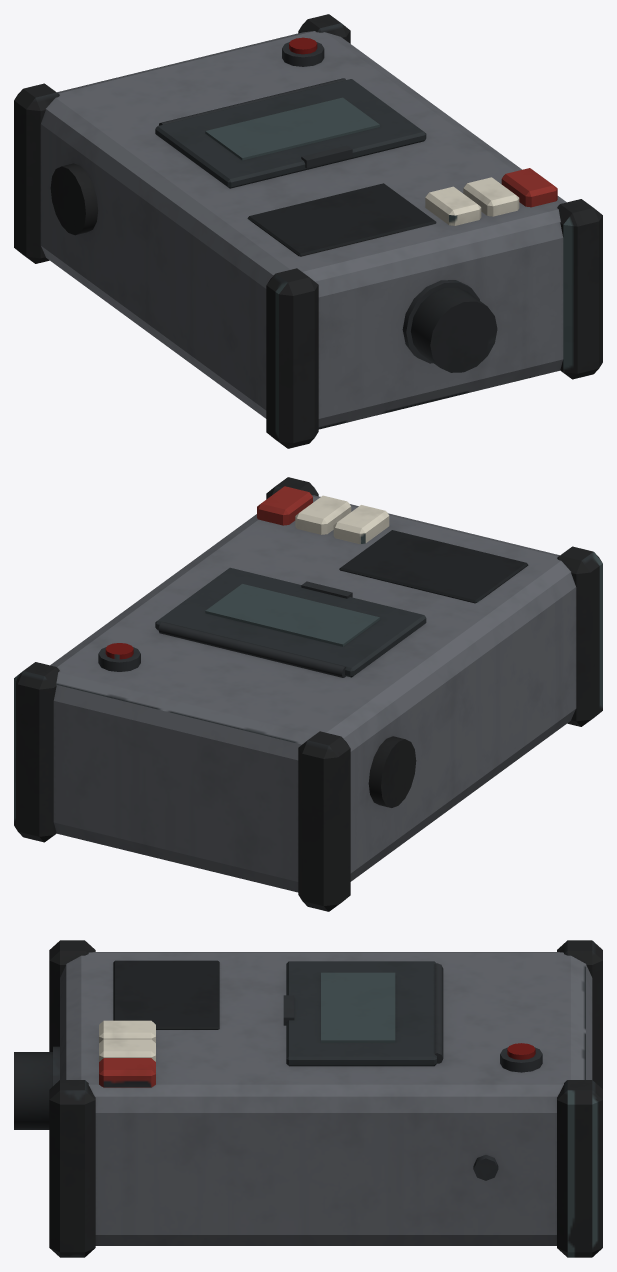
Rendered from cinematic-field-recorder.fbx.
3 views of the same model, one above another, from view 1: azimuth 30°, elevation 25°; view 2: azimuth 150°, elevation 25°; view 3: azimuth 270°, elevation 25° (orthographic).
Parts seen in each view (by area): view 1: cinematic-field-recorder, Lid; view 2: cinematic-field-recorder, Lid; view 3: cinematic-field-recorder, Lid.
Part boxes in pixels (bbox=[...]): cinematic-field-recorder: bbox=[14, 14, 602, 448]; Lid: bbox=[155, 79, 426, 188]; cinematic-field-recorder: bbox=[14, 477, 602, 911]; Lid: bbox=[155, 567, 426, 677]; cinematic-field-recorder: bbox=[14, 940, 602, 1257]; Lid: bbox=[283, 961, 436, 1066].
Size of the model in its own units: 2.14 by 1.11 by 3.32.
1 material, 1 textured.
